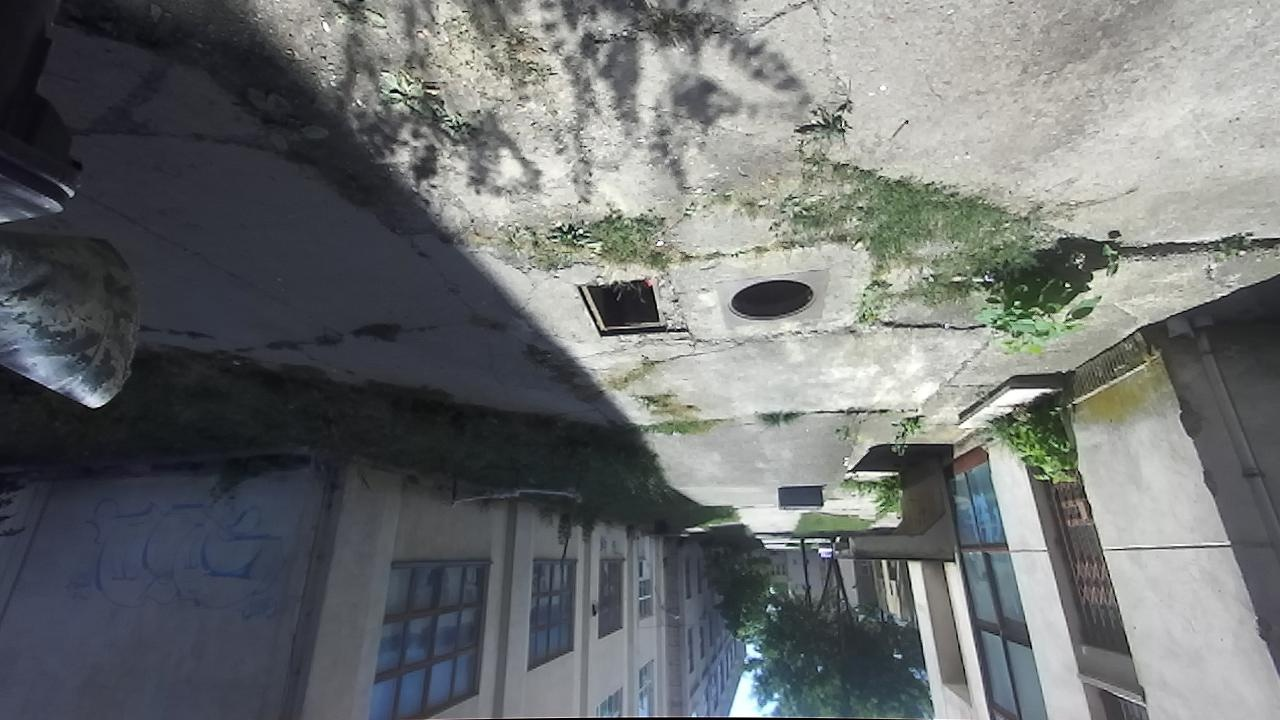drain: (569, 276, 670, 342), (720, 281, 817, 325)
